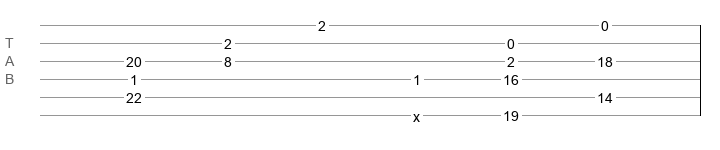0: (507, 36, 515, 46), (601, 18, 609, 28)
1: (130, 72, 138, 82), (413, 72, 421, 82)
14: (597, 90, 613, 100)
16: (503, 72, 519, 82)
18: (597, 54, 613, 64)
19: (503, 108, 519, 118)
2: (224, 36, 232, 46), (318, 18, 326, 28), (507, 54, 515, 64)
20: (126, 54, 142, 64)
22: (126, 90, 142, 100)
8: (224, 54, 232, 64)
x: (413, 109, 420, 117)
